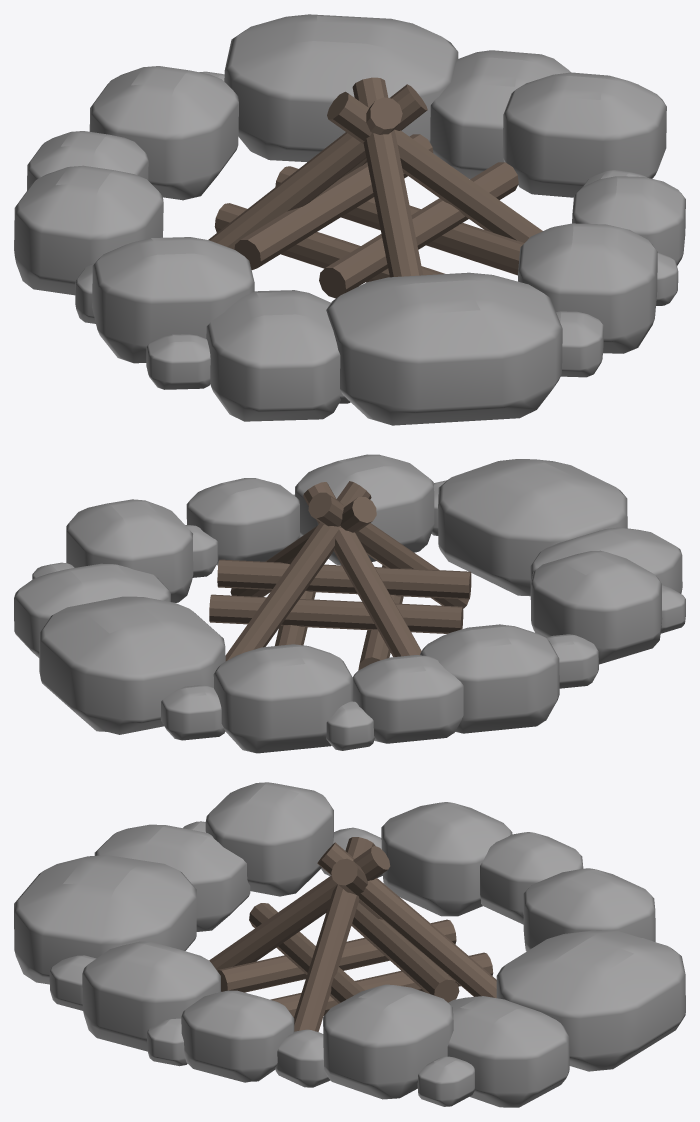
The model's file is Kampvuur.fbx.
3 views of the same model, one above another, from view 1: azimuth 30°, elevation 25°; view 2: azimuth 150°, elevation 25°; view 3: azimuth 270°, elevation 25° (orthographic). The views are drawn at different scales.
Parts seen in each view (by area): view 1: polySurface338; view 2: polySurface338; view 3: polySurface338.
Part boxes in pixels (x1=…): polySurface338: x1=14, y1=14, x2=685, y2=425; polySurface338: x1=14, y1=454, x2=685, y2=753; polySurface338: x1=14, y1=782, x2=685, y2=1107.
Bounding box in the file's own units: 0.8947 × 0.2708 × 0.9772.
